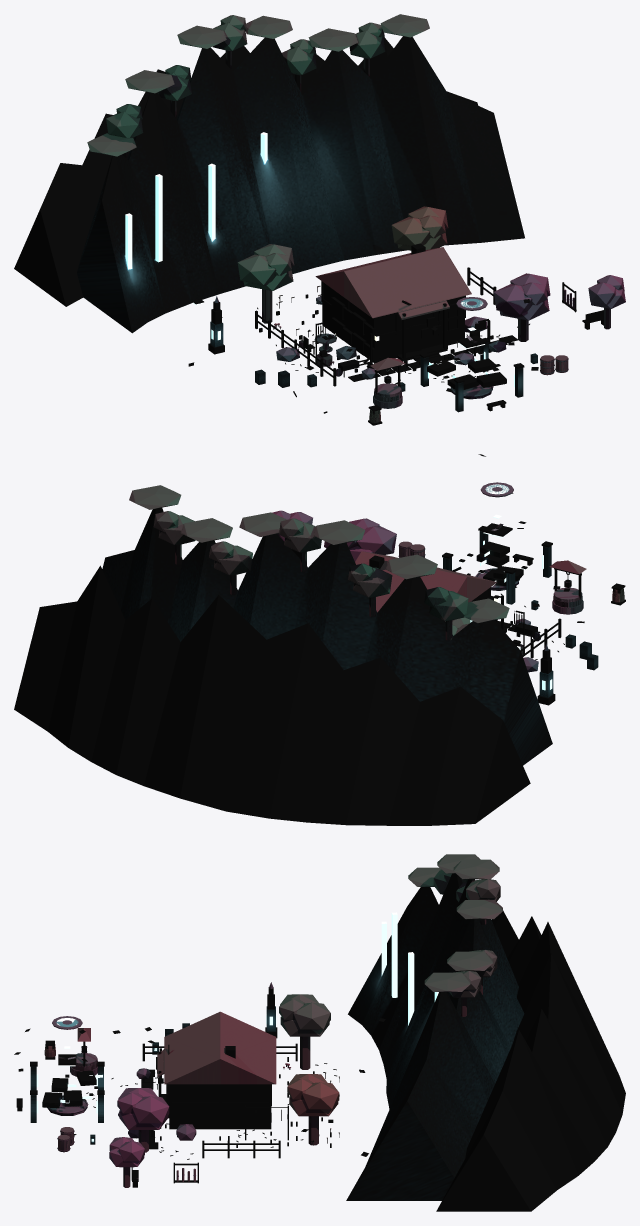
Rendered from landmark-blog.glb.
3 renders of one model, top to bottom at view 1: azimuth 30°, elevation 25°; view 2: azimuth 150°, elevation 25°; view 3: azimuth 270°, elevation 25°, orthographic. The views are drawn at different scales.
Visible parts, largest first — view 1: cottage_cliffs_merged, cottage_main_merged, cottage_cliff_foliage_merged, cottage_trees_merged, cottage_pedestal_merged, cottage_garden_merged, cottage_ground_merged, cottage_emit_merged, cottage_ivy_merged, cottage_sumeru_merged, cottage_readingnook_merged; view 2: cottage_cliffs_merged, cottage_cliff_foliage_merged, cottage_pedestal_merged, cottage_garden_merged, cottage_main_merged, cottage_trees_merged, cottage_sumeru_merged; view 3: cottage_cliffs_merged, cottage_main_merged, cottage_trees_merged, cottage_cliff_foliage_merged, cottage_pedestal_merged, cottage_garden_merged, cottage_emit_merged, cottage_ground_merged, cottage_sumeru_merged.
Part boxes in pixels (bbox=[...]): cottage_cliffs_merged: bbox=[14, 36, 524, 333]; cottage_main_merged: bbox=[315, 243, 471, 363]; cottage_cliff_foliage_merged: bbox=[87, 14, 429, 157]; cottage_trees_merged: bbox=[237, 206, 625, 341]; cottage_pedestal_merged: bbox=[419, 297, 524, 412]; cottage_garden_merged: bbox=[255, 267, 568, 425]; cottage_ground_merged: bbox=[259, 294, 517, 381]; cottage_emit_merged: bbox=[125, 132, 514, 386]; cottage_ivy_merged: bbox=[331, 297, 460, 360]; cottage_sumeru_merged: bbox=[192, 282, 576, 391]; cottage_readingnook_merged: bbox=[303, 322, 336, 366]; cottage_cliffs_merged: bbox=[14, 507, 552, 825]; cottage_cliff_foliage_merged: bbox=[129, 485, 509, 640]; cottage_pedestal_merged: bbox=[442, 482, 552, 604]; cottage_garden_merged: bbox=[398, 541, 625, 658]; cottage_main_merged: bbox=[355, 551, 496, 612]; cottage_trees_merged: bbox=[272, 510, 470, 635]; cottage_sumeru_merged: bbox=[531, 600, 598, 705]; cottage_cliffs_merged: bbox=[346, 873, 625, 1211]; cottage_main_merged: bbox=[157, 1011, 276, 1129]; cottage_trees_merged: bbox=[109, 994, 339, 1187]; cottage_cliff_foliage_merged: bbox=[408, 854, 502, 1016]; cottage_pedestal_merged: bbox=[16, 1016, 104, 1122]; cottage_garden_merged: bbox=[44, 1028, 297, 1158]; cottage_emit_merged: bbox=[36, 912, 438, 1141]; cottage_ground_merged: bbox=[118, 1057, 333, 1149]; cottage_sumeru_merged: bbox=[90, 982, 277, 1183].
Bounding box in the file's own units: 29 × 17.44 × 36.02.
18 materials, 15 textured.
